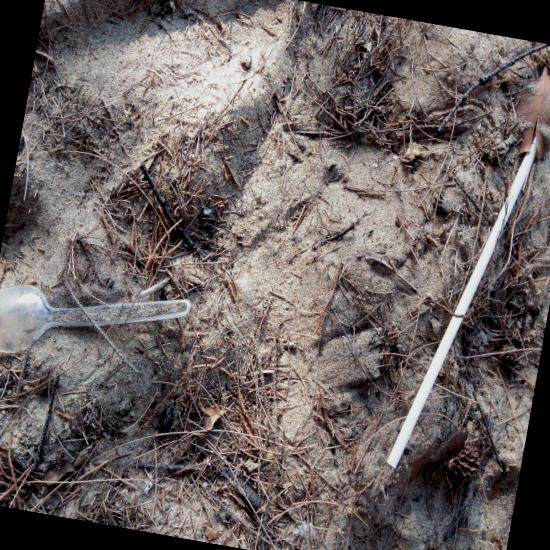Cigarette: (197, 285, 211, 296)
Drink can: (162, 331, 251, 485), (113, 354, 191, 452)
Pop tab: (210, 339, 228, 367)
